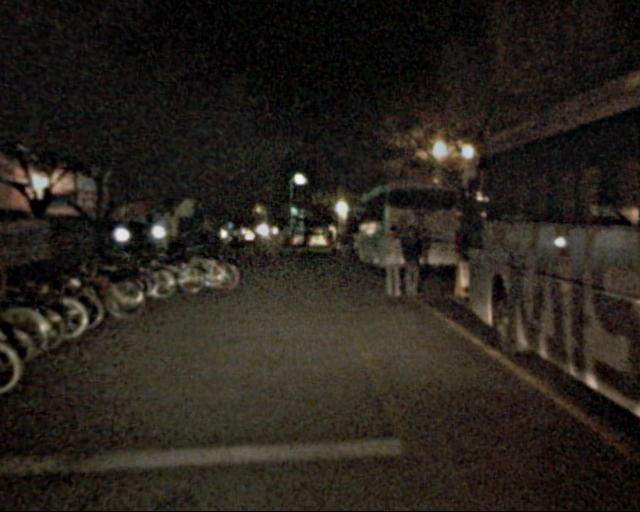person: (374, 222, 407, 302), (396, 226, 426, 298), (330, 222, 352, 276)
